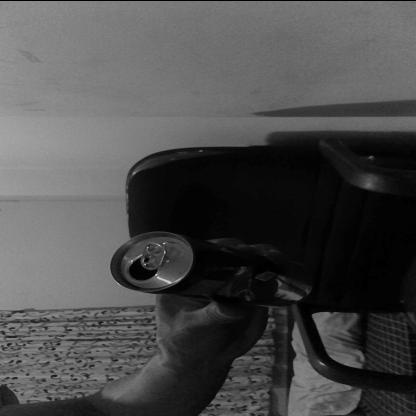alumunium_can: (112, 228, 314, 308)
